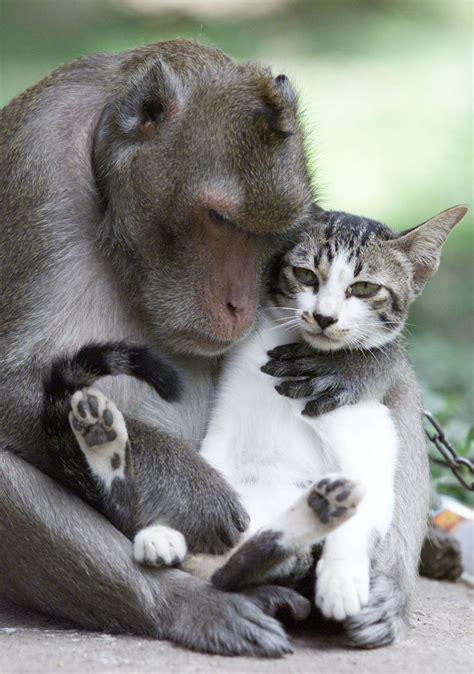cat: (47, 207, 465, 616)
monkey: (1, 41, 431, 657)
